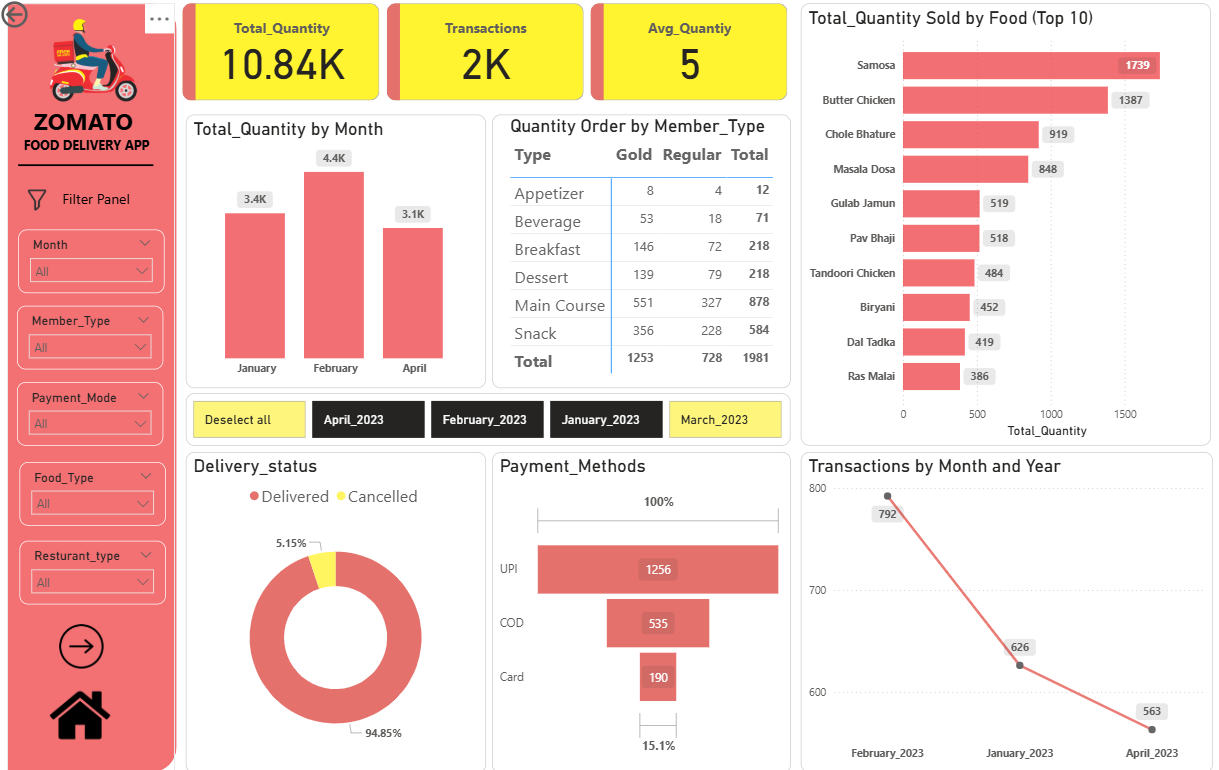

The dashboard page shown, as its layout file describes it:
{"tool":"powerbi","page":{"name":"ZOMATO_Dashboard","canvas":[1400,900],"ordinal":0},"visuals":[{"type":"shape","box":[11,7,194,879],"z":0},{"type":"textbox","box":[9,118.6,187.6,70.5],"z":1000},{"type":"image","box":[45,7.5,129.1,130.6],"z":2000},{"type":"image","box":[28.8,172.9,34.3,118],"z":3000},{"type":"textbox","box":[50.8,214.1,123.5,31.6],"z":4000},{"type":"shape","box":[24.9,174.6,154.3,35.9],"z":5000},{"type":"cardVisual","fields":{"Data":["Sales Data.Total_Quantity","Sales Data.Transactions","Sales Data.Avg_Quantiy"]},"box":[207.8,7.8,701.1,111.1],"z":6000},{"type":"clusteredBarChart","title":"Total_Quantity Sold by Food (Top 10)","fields":{"Category":["Food_Details.Food"],"Y":["Sales Data.Total_Quantity"]},"box":[919.1,7.3,469.1,505.5],"z":9000},{"type":"clusteredColumnChart","fields":{"Category":["Sales Data.orderDate.Variation.Date Hierarchy.Month"],"Y":["Sales Data.Total_Quantity"]},"box":[215.7,134.3,342.9,312.9],"z":10000},{"type":"pivotTable","title":"Quantity Order by Member_Type","fields":{"Columns":["Customer Details.member_Type"],"Rows":["Food_Details.Type"],"Values":["Sales Data.Transactions"]},"box":[565.7,134.3,341.4,312.9],"z":11000},{"type":"donutChart","title":"Delivery_status","fields":{"Category":["Sales Data.deliver_status"],"Y":["Sales Data.Transactions"]},"box":[215.7,520,342.9,367.1],"z":12000},{"type":"funnel","title":"Payment_Methods","fields":{"Category":["Sales Data.payment_method"],"Y":["Sales Data.Transactions"]},"box":[565.7,520,341.4,367.1],"z":13000},{"type":"actionButton","box":[0,0,100,40],"z":14000},{"type":"slicer","fields":{"Values":["Sales Data.orderDate.Variation.Date Hierarchy.Month"]},"box":[23.8,266.2,167.5,72.5],"z":15000},{"type":"slicer","fields":{"Values":["Customer Details.member_Type"]},"box":[22.9,352.9,167.1,72.9],"z":16000},{"type":"lineChart","fields":{"Y":["Sales Data.Transactions"],"Category":["Sales Data.Month and Year"]},"box":[918.9,520,471.1,366.7],"z":17000},{"type":"slicer","fields":{"Values":["Sales Data.payment_method"]},"box":[22.9,440,167.1,72.9],"z":20000},{"type":"slicer","fields":{"Values":["Food_Details.Type"]},"box":[25.7,531.4,167.1,72.9],"z":21000},{"type":"slicer","fields":{"Values":["Resturant_Details.Resturant_type"]},"box":[25.7,621.4,167.1,72.9],"z":22000},{"type":"image","box":[62.9,708.6,67.1,67.1],"z":23000},{"type":"image","box":[55.7,780,78.6,81.4],"z":24000},{"type":"advancedSlicerVisual","fields":{"Values":["Sales Data.Month and Year"]},"box":[215.7,452.9,691.4,60],"z":25000}]}

Visuals, with their boxes in screenshot pixels (x1, y1, x2, y2), scaled from the page's 1400x900 canvas onto the 1219x770 screenshot:
shape: (10, 6, 178, 758)
textbox: (8, 101, 171, 162)
image: (39, 6, 152, 118)
image: (25, 148, 55, 249)
textbox: (44, 183, 152, 210)
shape: (22, 149, 156, 180)
cardVisual - Sales Data.Total_Quantity x Sales Data.Transactions: (181, 7, 791, 102)
"Total_Quantity Sold by Food (Top 10)" clusteredBarChart: (800, 6, 1209, 439)
clusteredColumnChart - Sales Data.orderDate.Variation.Date Hierarchy.Month x Sales Data.Total_Quantity: (188, 115, 486, 383)
"Quantity Order by Member_Type" pivotTable: (493, 115, 790, 383)
"Delivery_status" donutChart: (188, 445, 486, 759)
"Payment_Methods" funnel: (493, 445, 790, 759)
actionButton: (0, 0, 87, 34)
slicer - Sales Data.orderDate.Variation.Date Hierarchy.Month: (21, 228, 167, 290)
slicer - Customer Details.member_Type: (20, 302, 165, 364)
lineChart - Sales Data.Transactions x Sales Data.Month and Year: (800, 445, 1210, 759)
slicer - Sales Data.payment_method: (20, 376, 165, 439)
slicer - Food_Details.Type: (22, 455, 168, 517)
slicer - Resturant_Details.Resturant_type: (22, 532, 168, 594)
image: (55, 606, 113, 664)
image: (48, 667, 117, 737)
advancedSlicerVisual - Sales Data.Month and Year: (188, 387, 790, 439)
